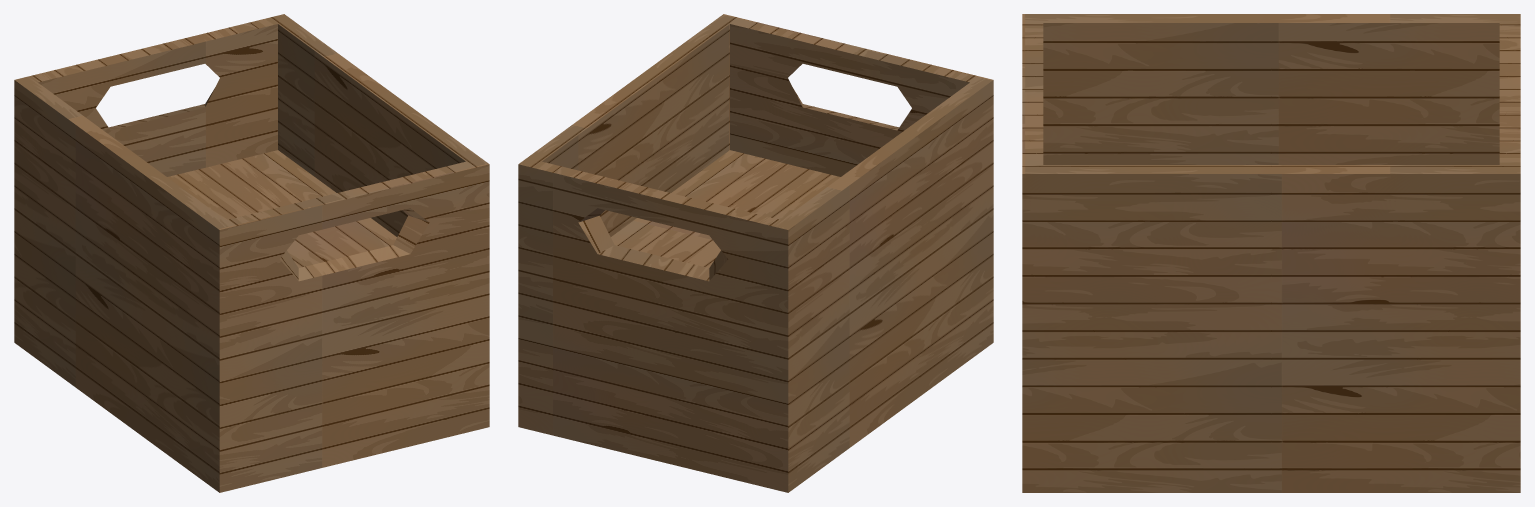
Rendered from SM_box_wgrips_01.fbx.
3 views of the same model, side by side, from view 1: azimuth 30°, elevation 25°; view 2: azimuth 150°, elevation 25°; view 3: azimuth 270°, elevation 25° (orthographic). The views are drawn at different scales.
Parts seen in each view (by area): view 1: box_wgrips_01; view 2: box_wgrips_01; view 3: box_wgrips_01.
Boxes of the visible parts, bbox=[...] form: box_wgrips_01: bbox=[14, 14, 489, 492]; box_wgrips_01: bbox=[518, 14, 993, 492]; box_wgrips_01: bbox=[1022, 14, 1520, 492].
Size of the model in its own units: 81.07 by 75.43 by 107.
